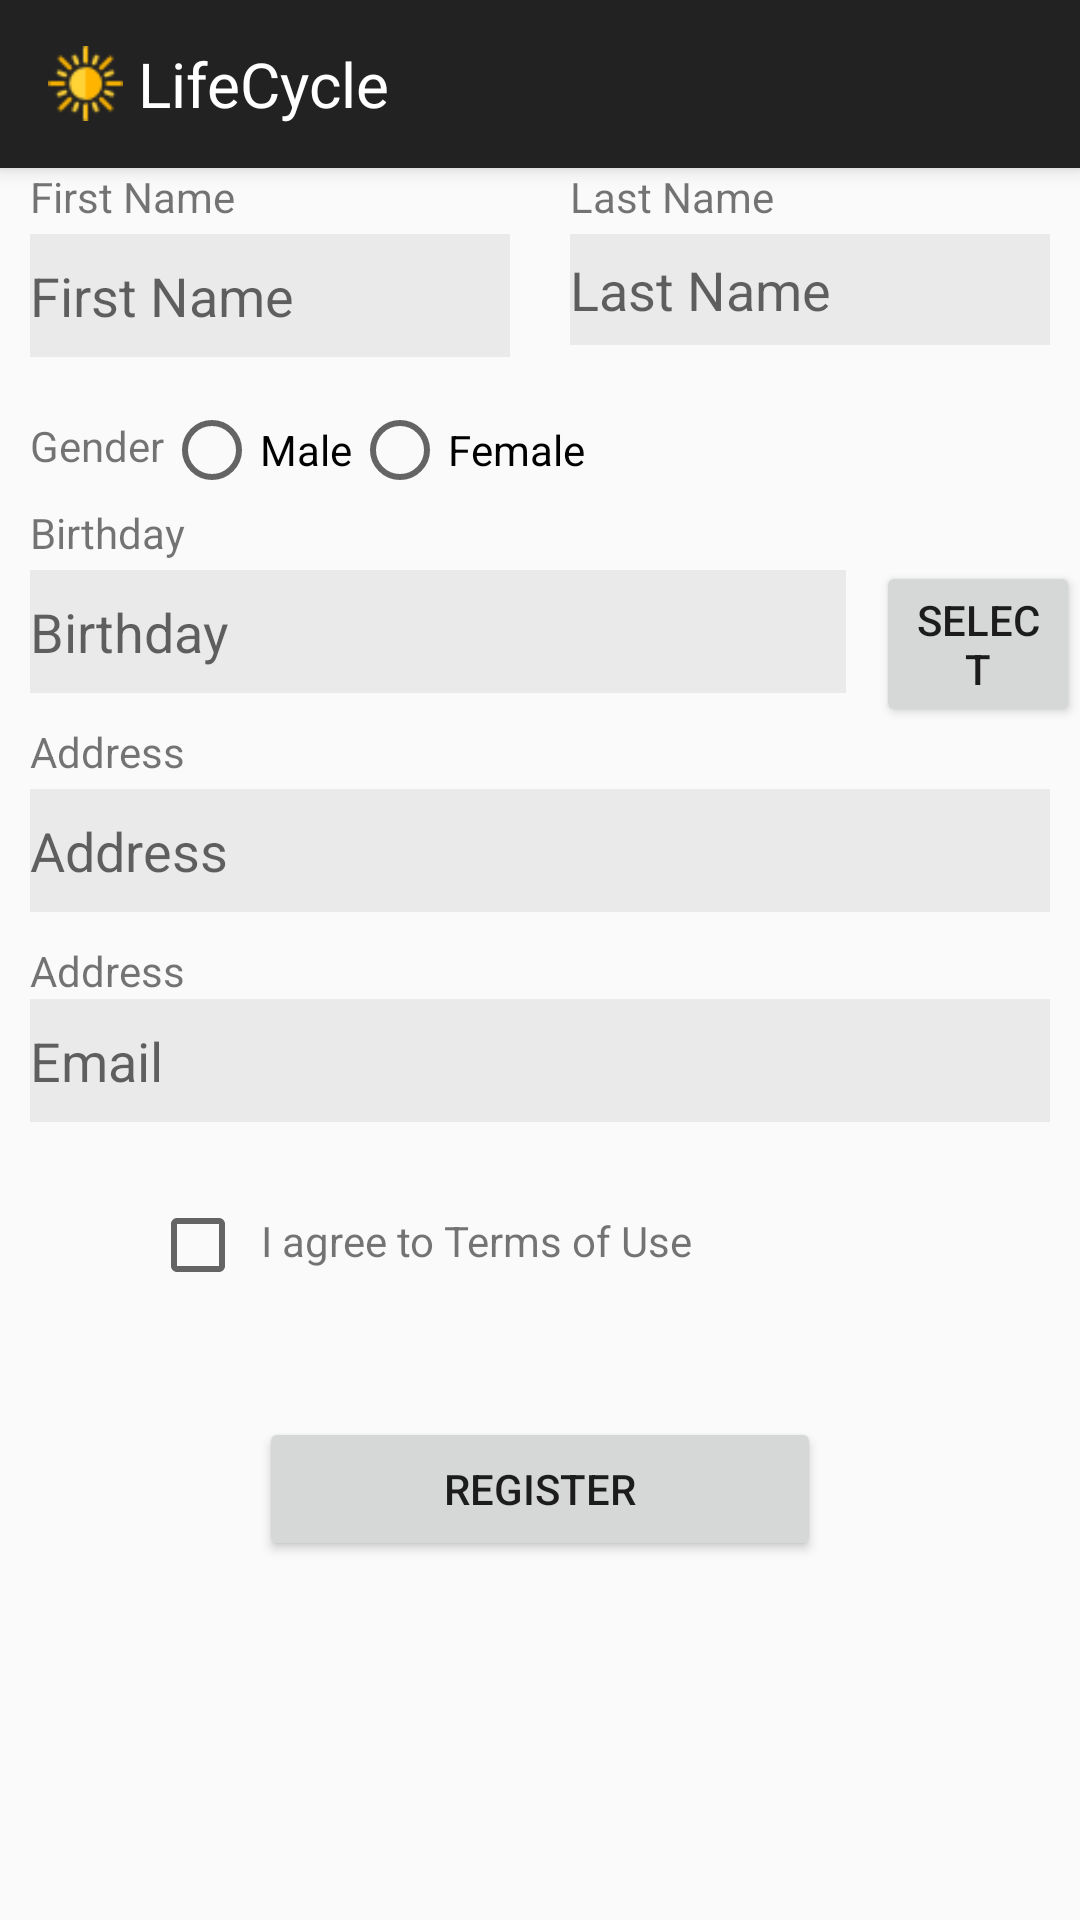

Where icons sit on this 1080 x 1920 app screen, as [left=x1, top=y1, right=x2, bottom=y2]:
sun: [left=48, top=46, right=123, bottom=121]
